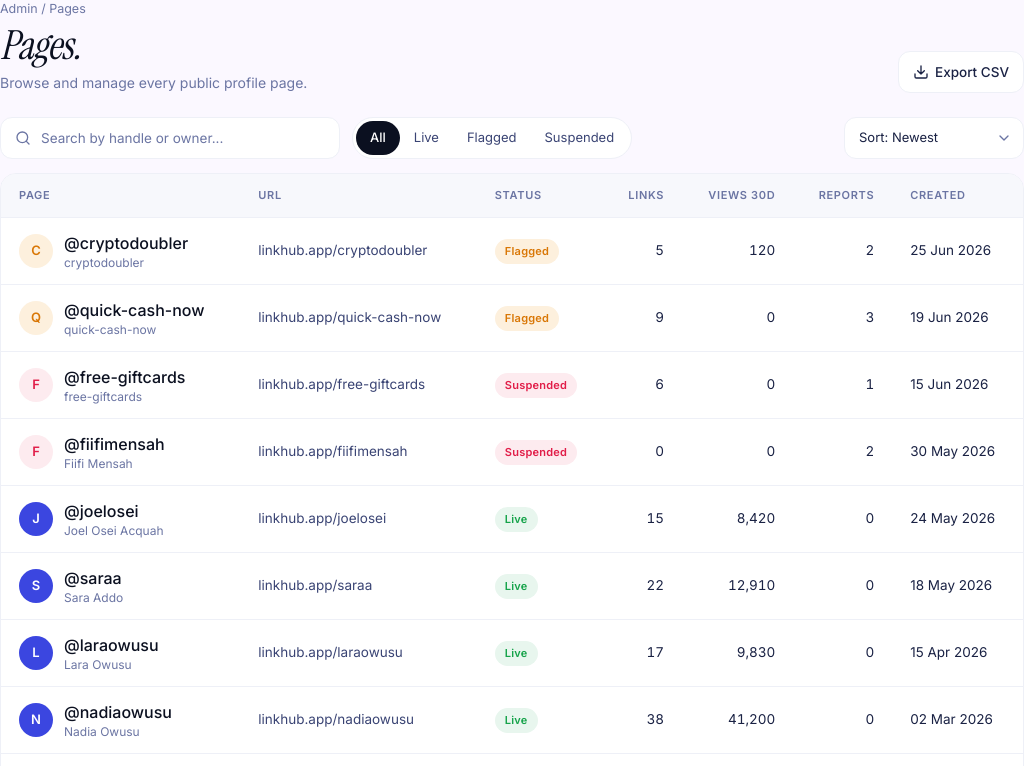
PagesClient › filters rows by the suspended tab
The width and height of the screenshot is (1024, 766).
Check: the text "@cryptodoubler" is shown, box [64,230,188,254]
Click the button "Suspended" at (579, 138), box [530,121,628,155]
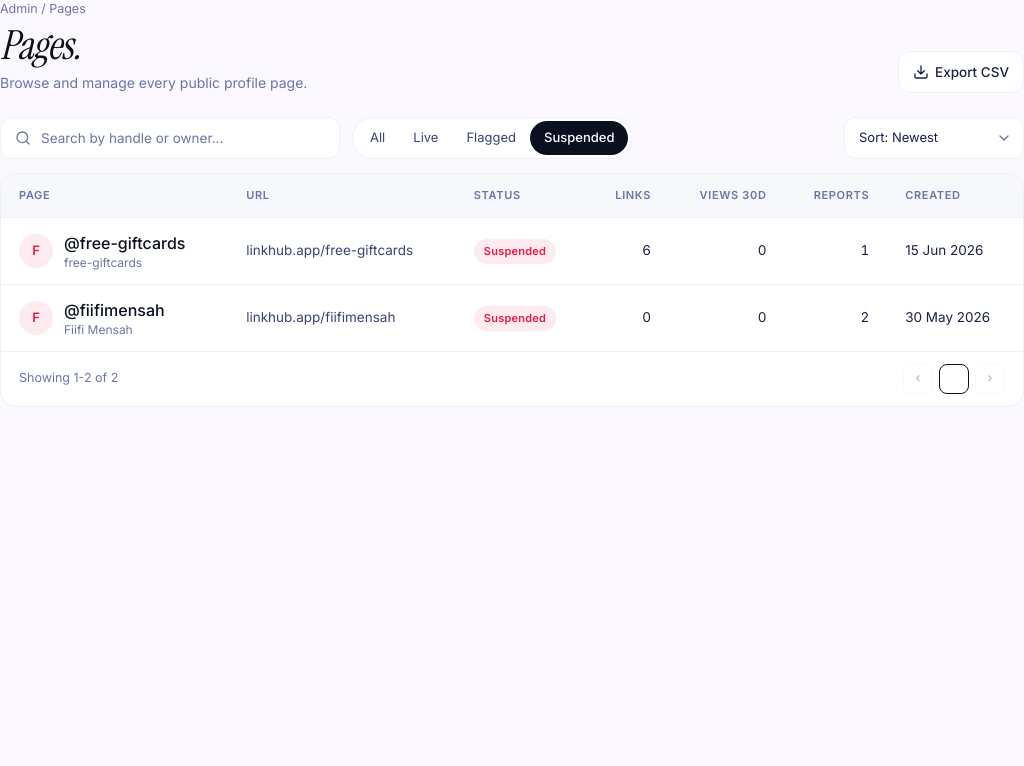
Check: the text "@free-giftcards" is shown, box [64,230,186,254]
Check: the text "@cryptodoubler" is gone
